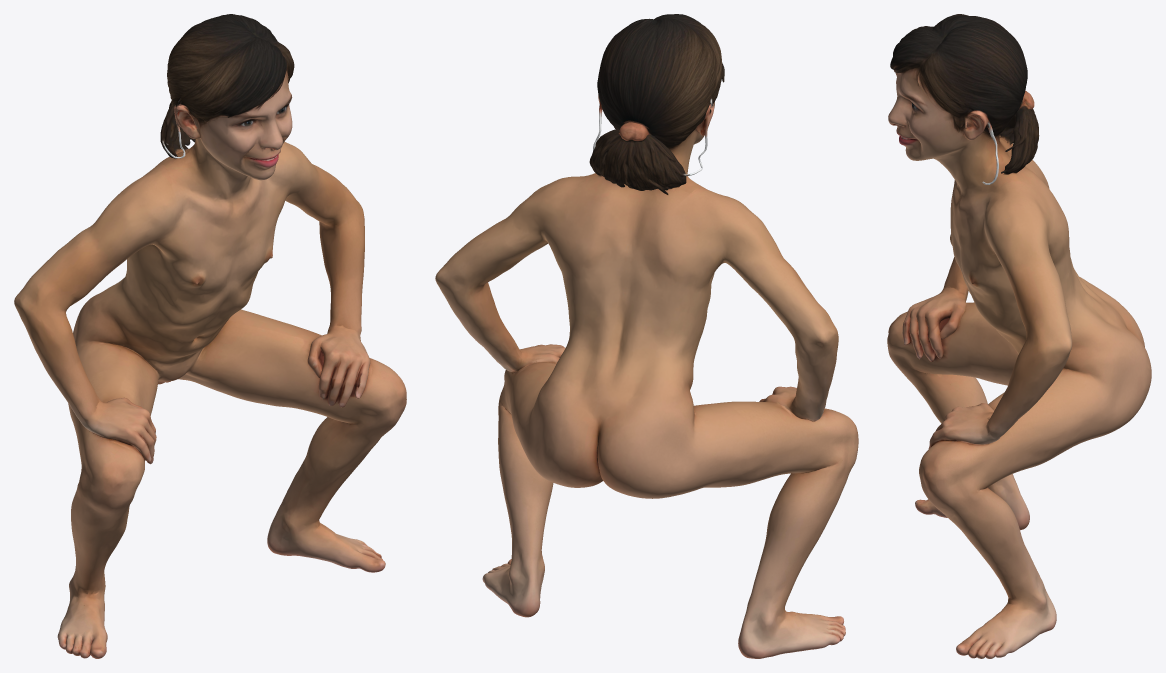
3 renders of one model, left to right at view 1: azimuth 30°, elevation 25°; view 2: azimuth 150°, elevation 25°; view 3: azimuth 270°, elevation 25°, orthographic. The views are drawn at different scales.
Visible parts, largest first — view 1: tripo_node_81a207df-7338-4b32-94b3-45186fc115c6; view 2: tripo_node_81a207df-7338-4b32-94b3-45186fc115c6; view 3: tripo_node_81a207df-7338-4b32-94b3-45186fc115c6.
Part boxes in pixels (<box>): tripo_node_81a207df-7338-4b32-94b3-45186fc115c6: <box>14,14,406,658</box>; tripo_node_81a207df-7338-4b32-94b3-45186fc115c6: <box>435,14,858,658</box>; tripo_node_81a207df-7338-4b32-94b3-45186fc115c6: <box>887,14,1151,658</box>.
Bounding box in the file's own units: 0.6523 × 1 × 0.4231.
1 material, 1 textured.
